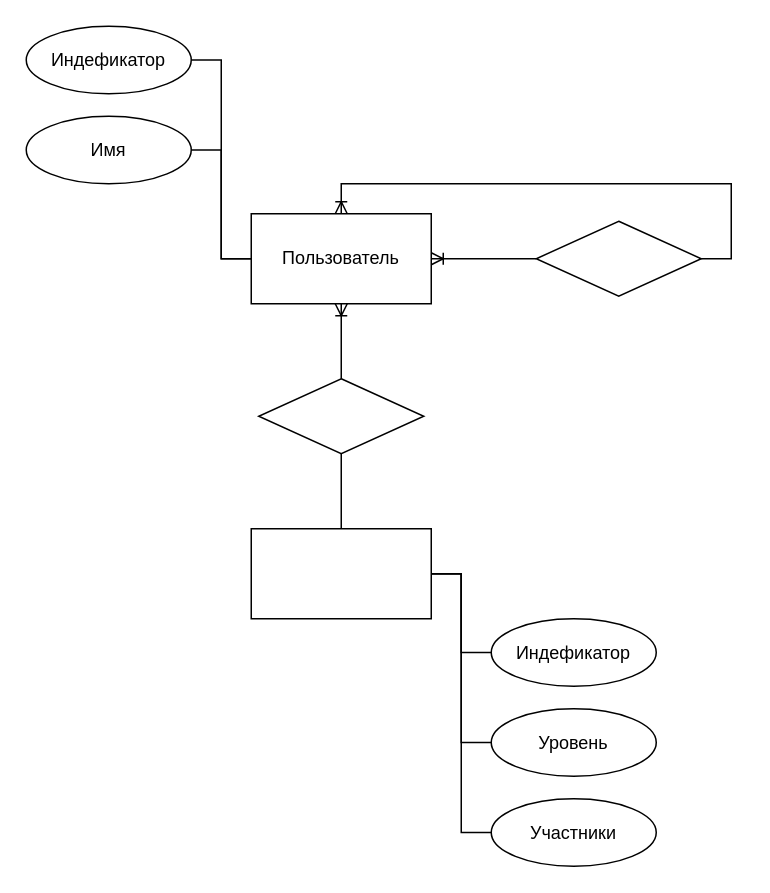
This 770x893 diagram has some shape labels left out. The centre of each missing label's shape, as x and y in pixels:
"Дружит" goes at point (618, 258).
"Содержит" goes at point (340, 415).
"Сообщество" goes at point (340, 573).
